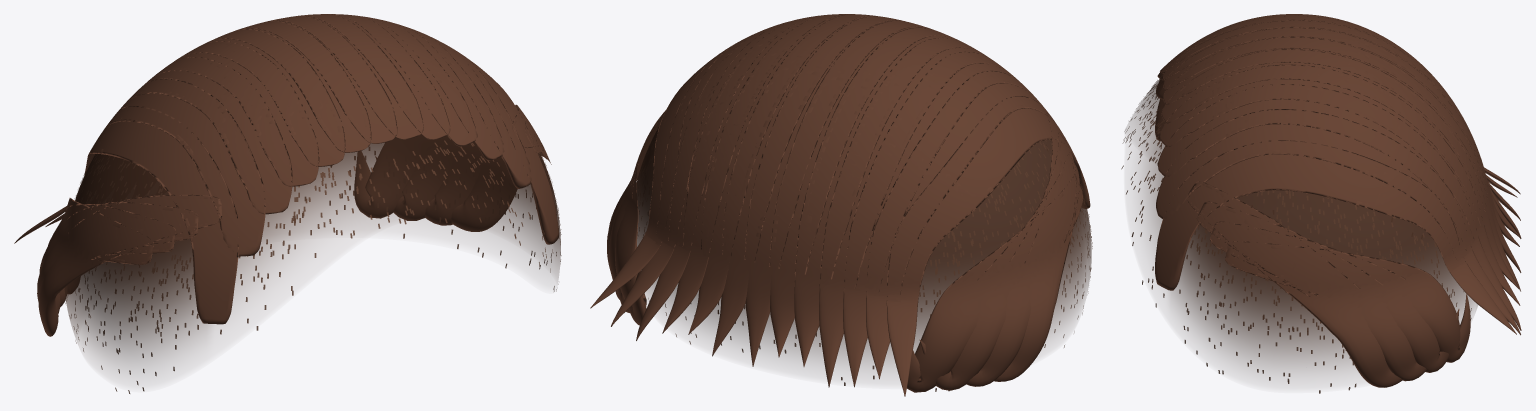
The model's file is Masculine-flow-closed-hair.glb.
The picture shows the model from 3 angles, left to right: view 1: azimuth 30°, elevation 25°; view 2: azimuth 150°, elevation 25°; view 3: azimuth 270°, elevation 25°; orthographic projection. The views are drawn at different scales.
Parts seen in each view (by area): view 1: 226 hair / Hair / chestnut226.001, 226 hair / Hair / neutral coverage235.001, 226 hair / Hair / cut grain235.001; view 2: 226 hair / Hair / chestnut226.001, 226 hair / Hair / neutral coverage235.001, 226 hair / Hair / cut grain235.001; view 3: 226 hair / Hair / chestnut226.001, 226 hair / Hair / neutral coverage235.001, 226 hair / Hair / cut grain235.001.
Boxes of the visible parts, x1,y1,x2,y2 form: 226 hair / Hair / chestnut226.001: (14, 14, 558, 336); 226 hair / Hair / neutral coverage235.001: (64, 134, 560, 373); 226 hair / Hair / cut grain235.001: (64, 135, 561, 393); 226 hair / Hair / chestnut226.001: (590, 14, 1090, 396); 226 hair / Hair / neutral coverage235.001: (636, 126, 1091, 373); 226 hair / Hair / cut grain235.001: (637, 125, 1092, 391); 226 hair / Hair / chestnut226.001: (1155, 14, 1521, 387); 226 hair / Hair / neutral coverage235.001: (1126, 75, 1477, 377); 226 hair / Hair / cut grain235.001: (1121, 74, 1471, 393).
Bounding box in the file's own units: 1.03 × 0.6245 × 0.8385.
